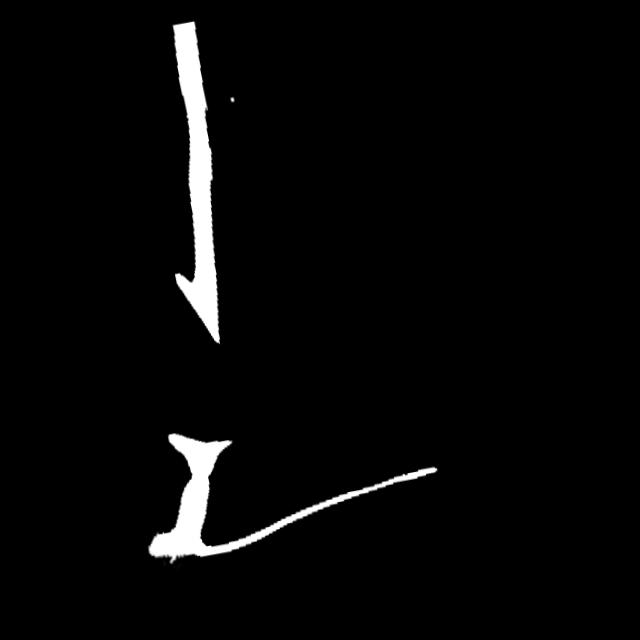sup_pli: (164, 552, 179, 565)
